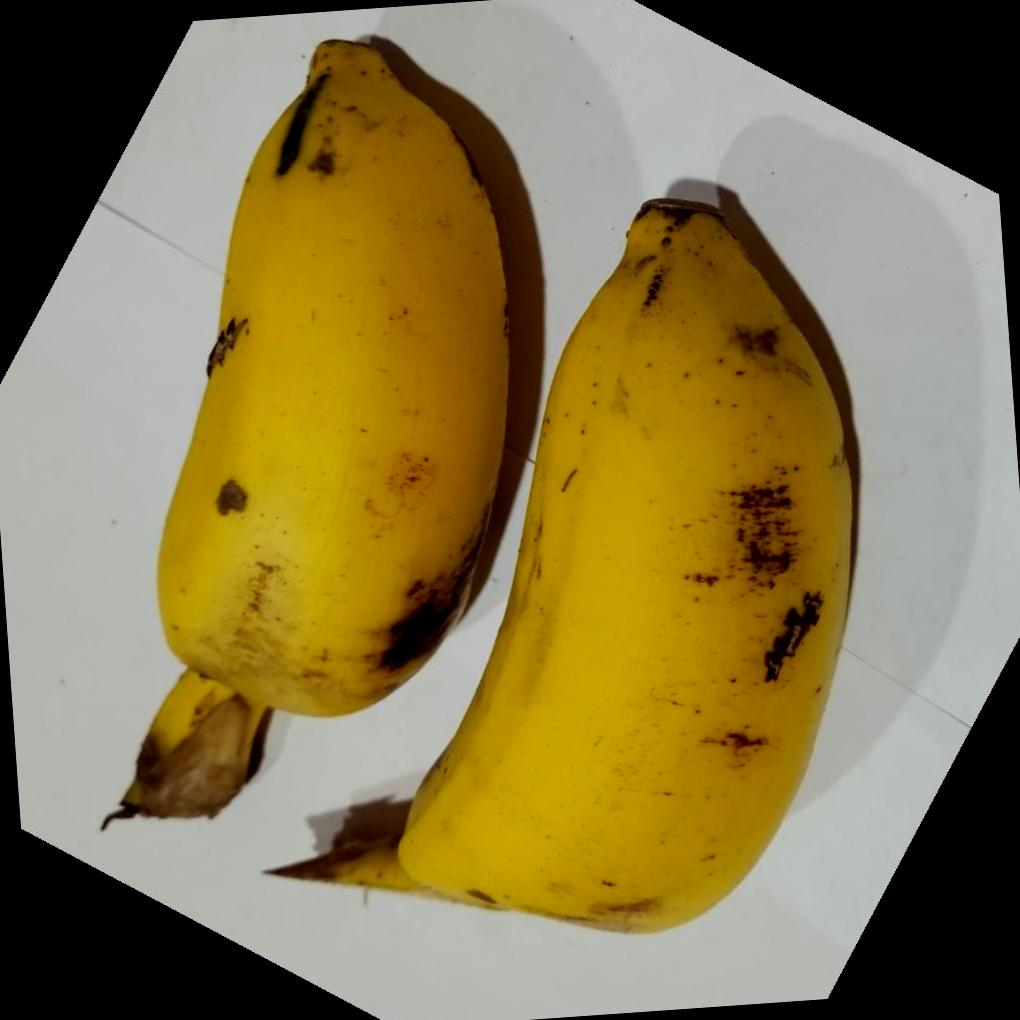Banana Ripe: (290, 70, 920, 973), (115, 24, 544, 786)
